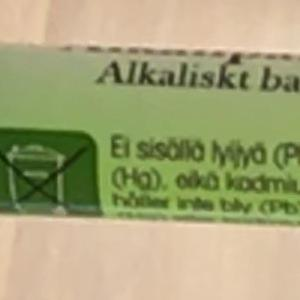ALK: (86, 51, 147, 93)
